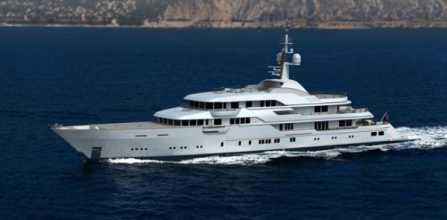yacht: (47, 58, 399, 158)
